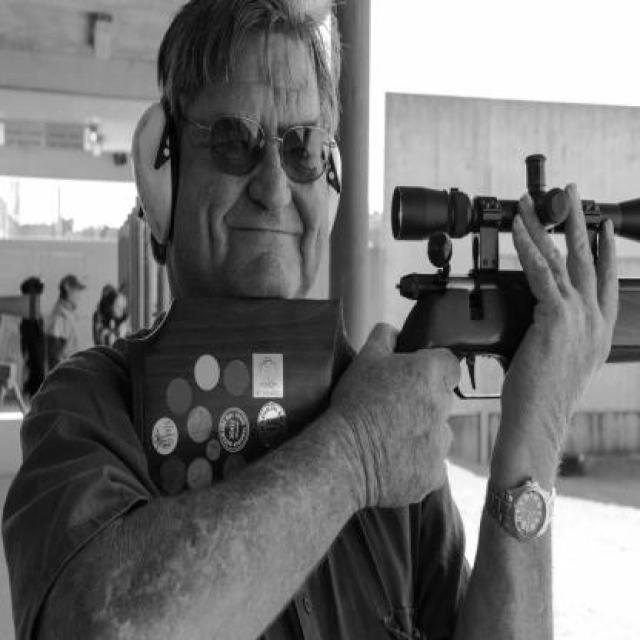weapon: (388, 152, 638, 402)
